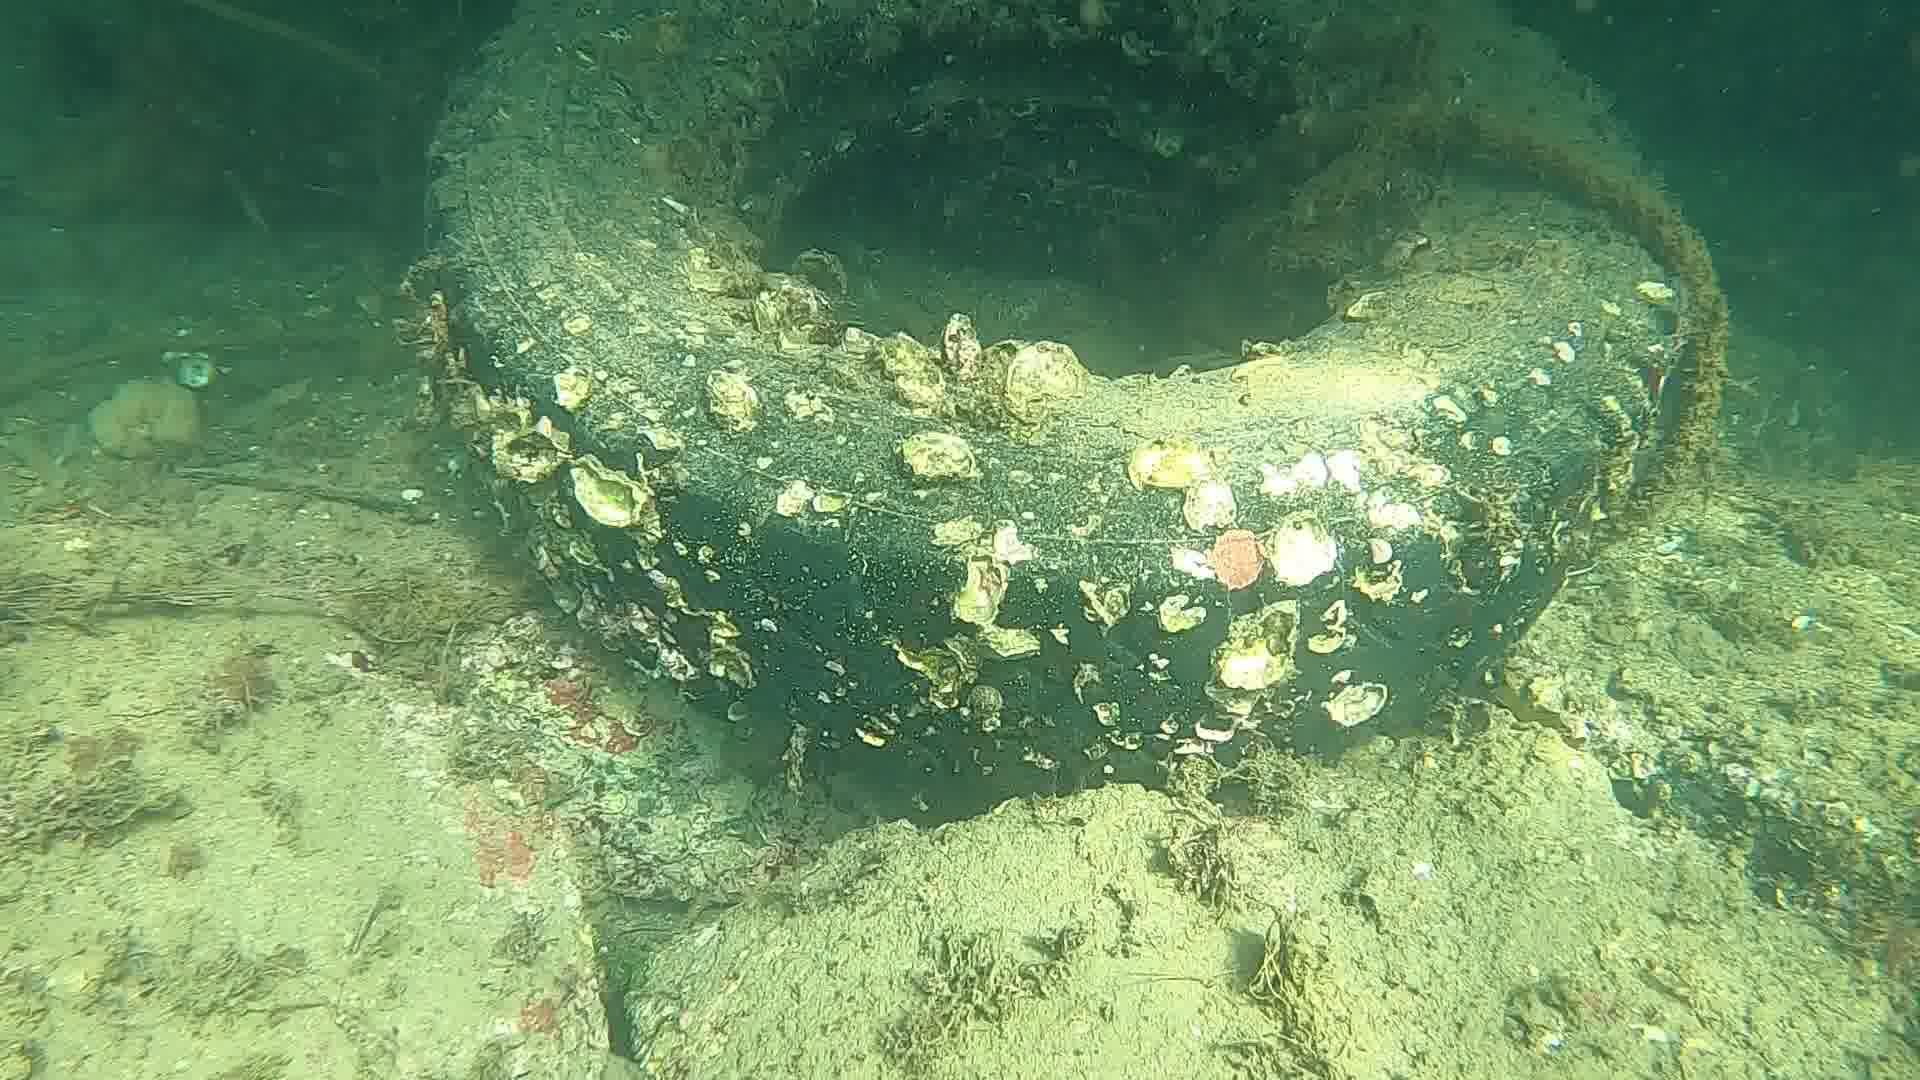rope: (1325, 98, 1734, 531)
tire: (411, 0, 1695, 804)
